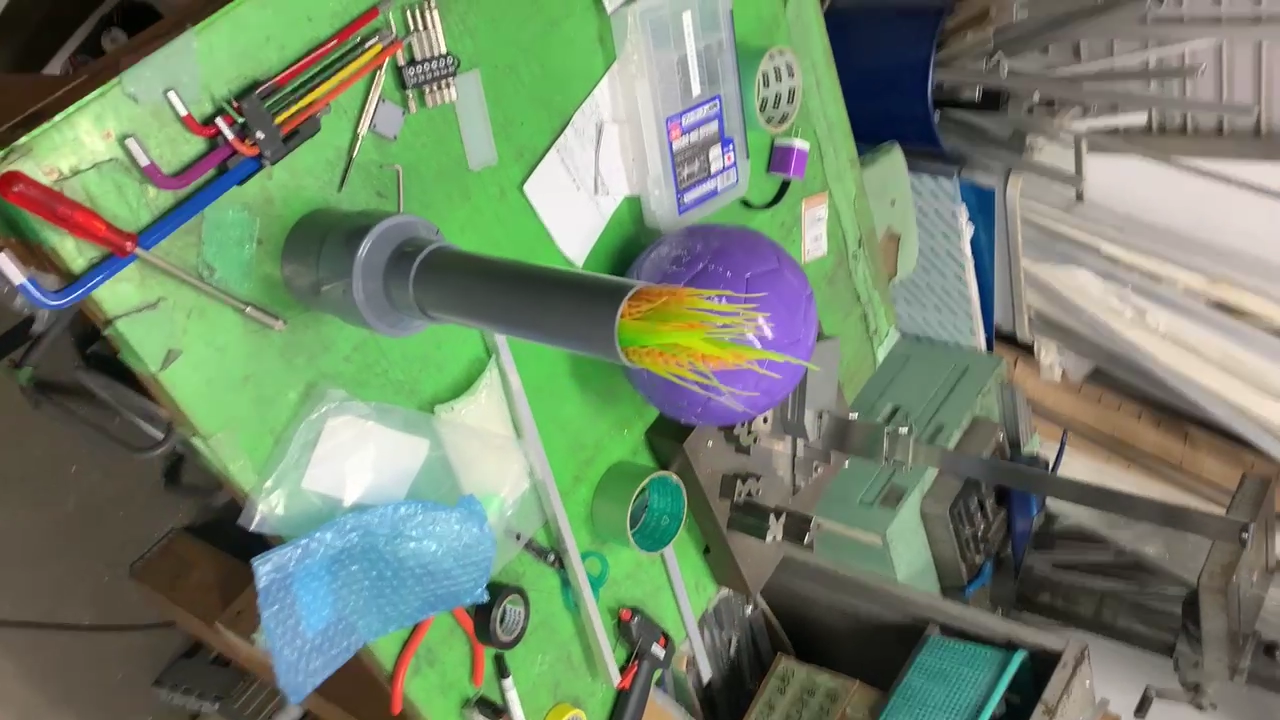purple: (624, 225, 810, 423)
